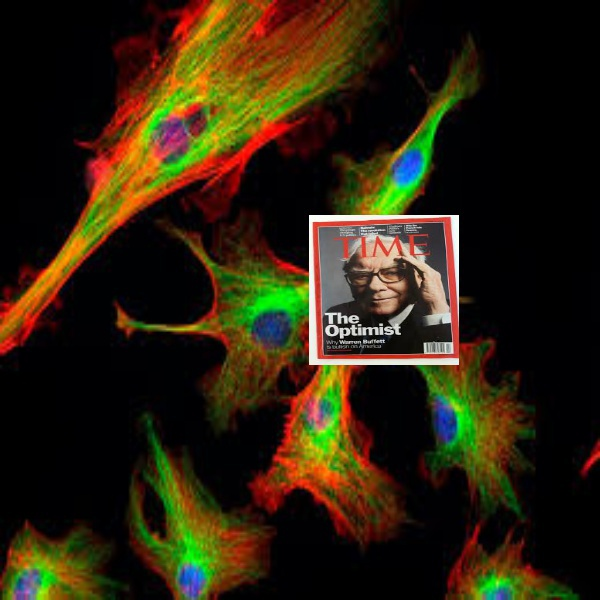time_cover: (309, 207, 465, 367)
